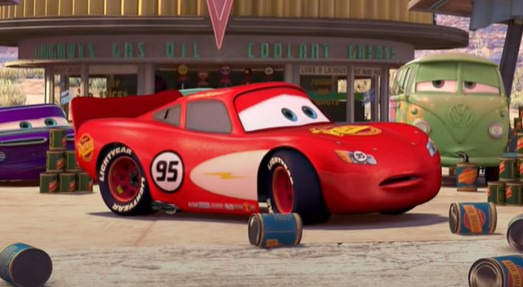mcqueen: (67, 80, 444, 226)
